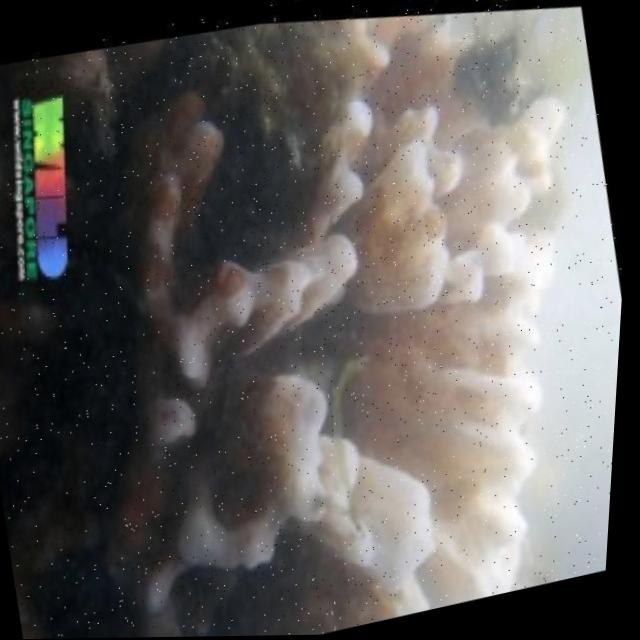Bleached Coral: (1, 0, 640, 640)
